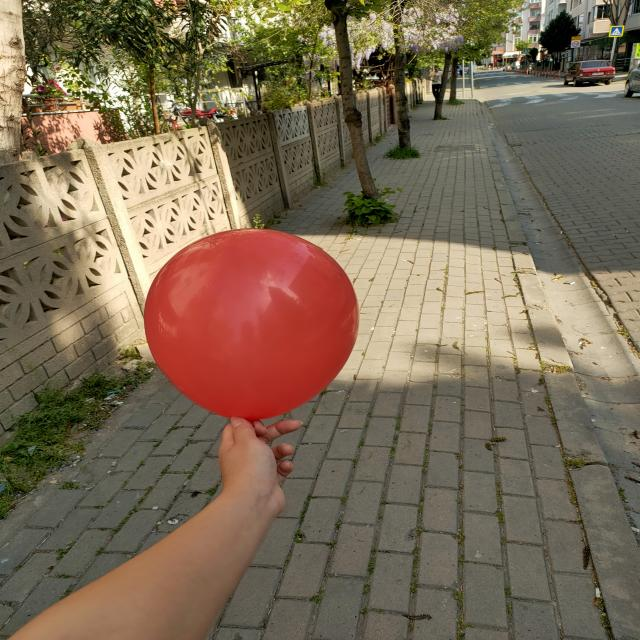red: (148, 231, 361, 422)
